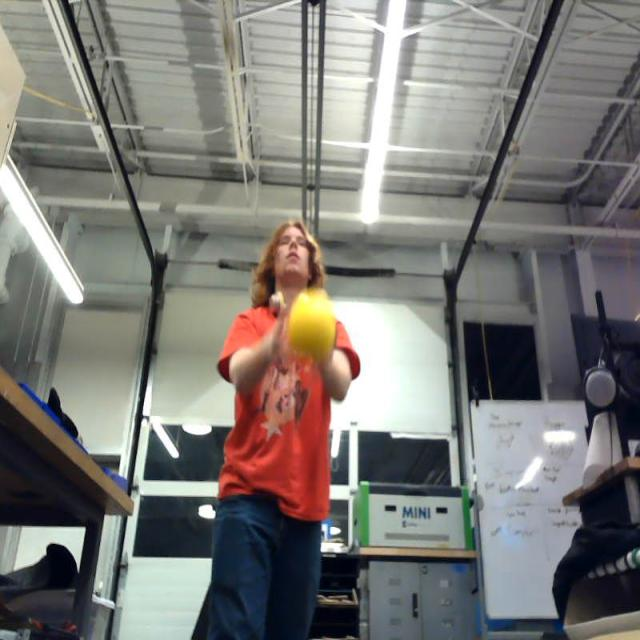Fuel: (288, 293, 336, 360)
